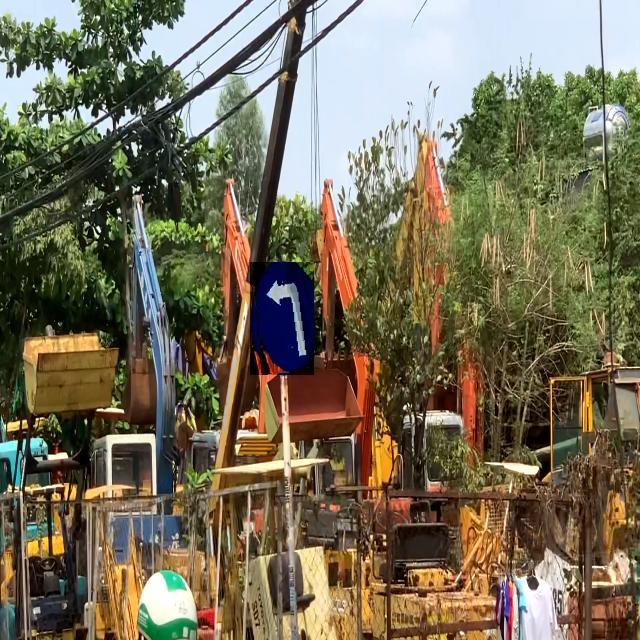bien_hieu_lenh: (250, 262, 314, 375)
